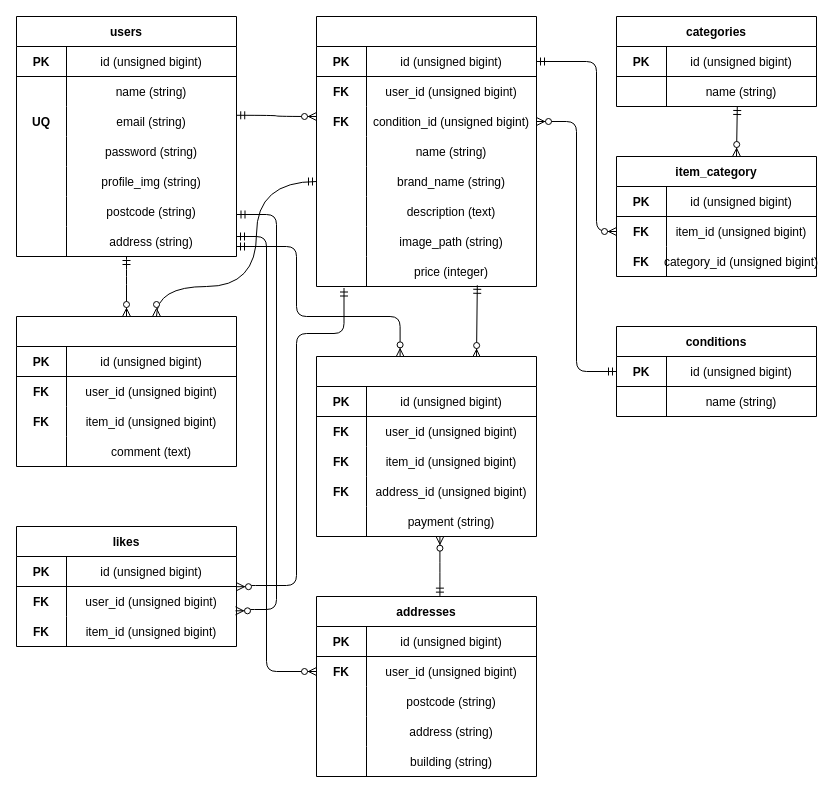
The diagram is 835 pixels wide and 793 high, and some of its shapes have lost their labels. The box of each missing label's shape, as (x1, y1, x2, y2) in pixels:
comments: (16, 316, 236, 466)
items: (316, 16, 536, 286)
purchases: (316, 356, 536, 536)
